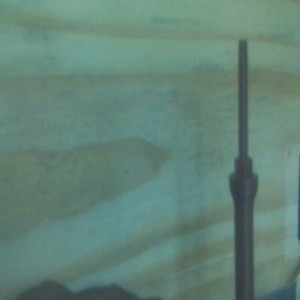obeng: (228, 39, 259, 300)
